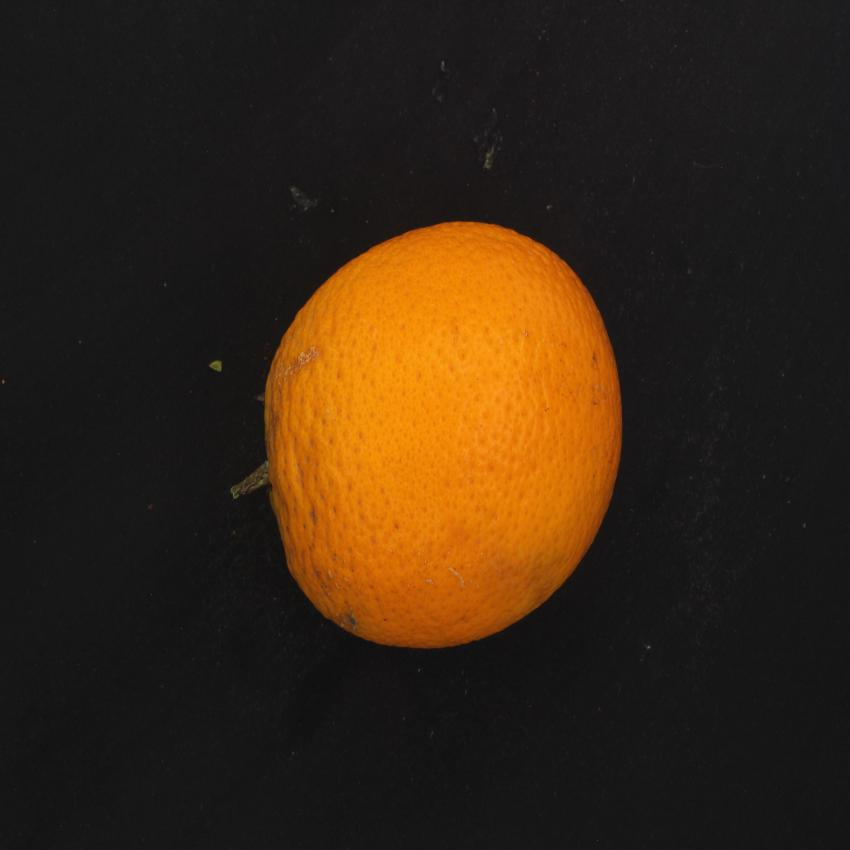Buen estado: (255, 208, 636, 665)
